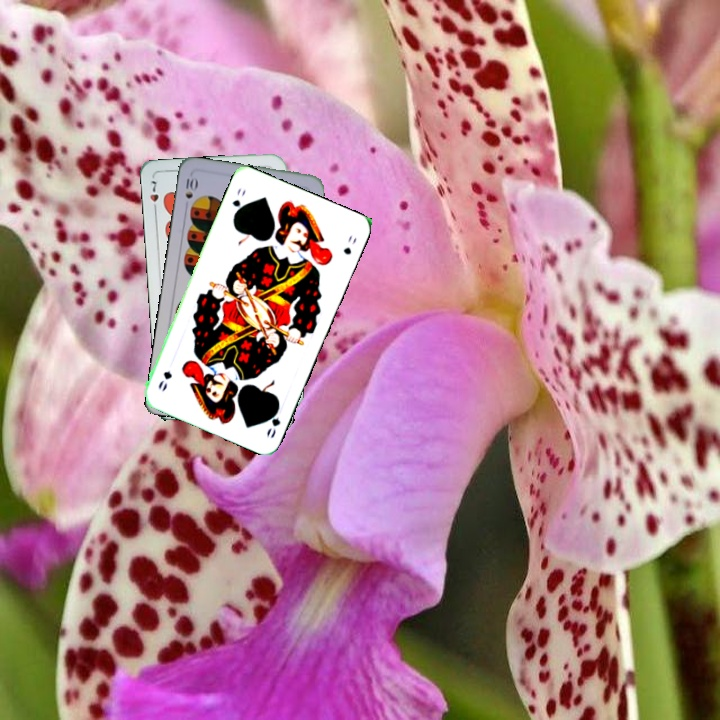GO: (262, 401, 283, 441), (228, 184, 248, 220)
H7: (146, 177, 161, 215)
S10: (181, 172, 200, 201)
